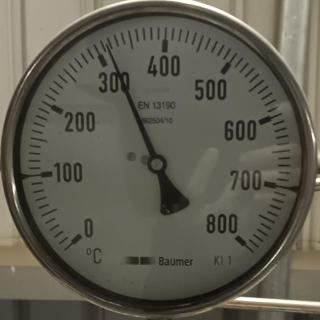gauge: (1, 0, 318, 310), (202, 210, 258, 260), (59, 214, 103, 258), (145, 153, 167, 175), (100, 38, 113, 54)
